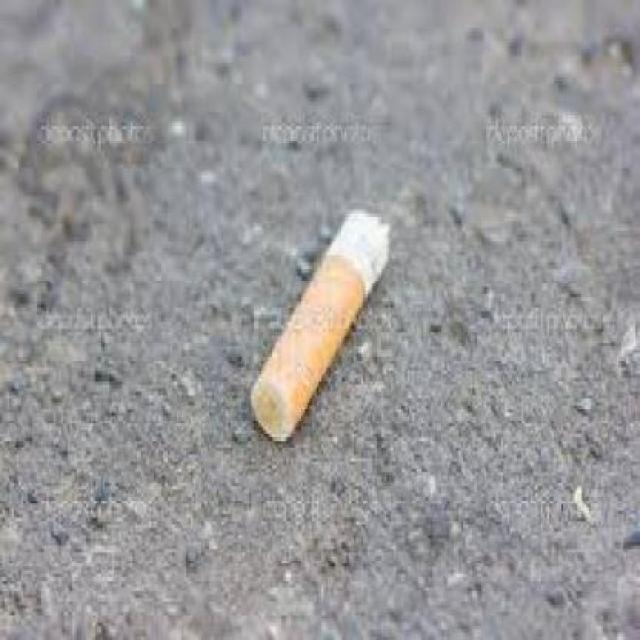cigarette: (245, 185, 417, 444)
